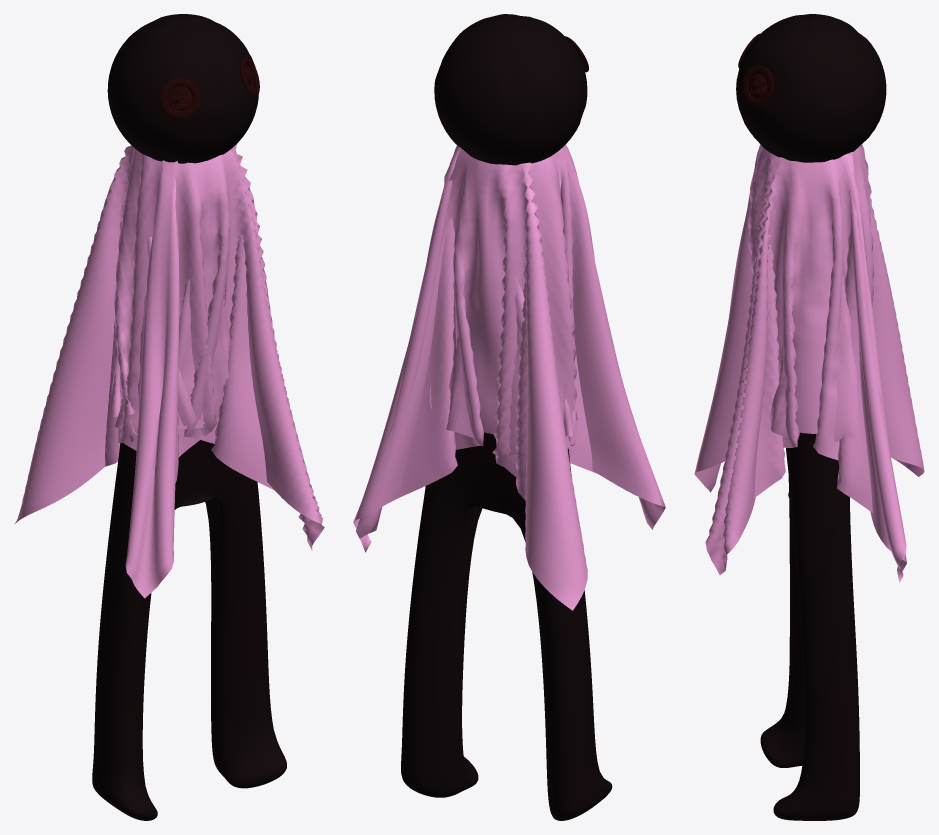
File: GhostEnemy.obj
3 views of the same model, side by side, from view 1: azimuth 30°, elevation 25°; view 2: azimuth 150°, elevation 25°; view 3: azimuth 270°, elevation 25° (orthographic).
Parts seen in each view (by area): view 1: ghost_Plane_Plane.001; view 2: ghost_Plane_Plane.001; view 3: ghost_Plane_Plane.001.
Part boxes in pixels (<box>): ghost_Plane_Plane.001: <box>14,14,324,820</box>; ghost_Plane_Plane.001: <box>353,14,665,820</box>; ghost_Plane_Plane.001: <box>694,14,924,820</box>.
Bounding box in the file's own units: 3.43 × 11.14 × 3.02.
